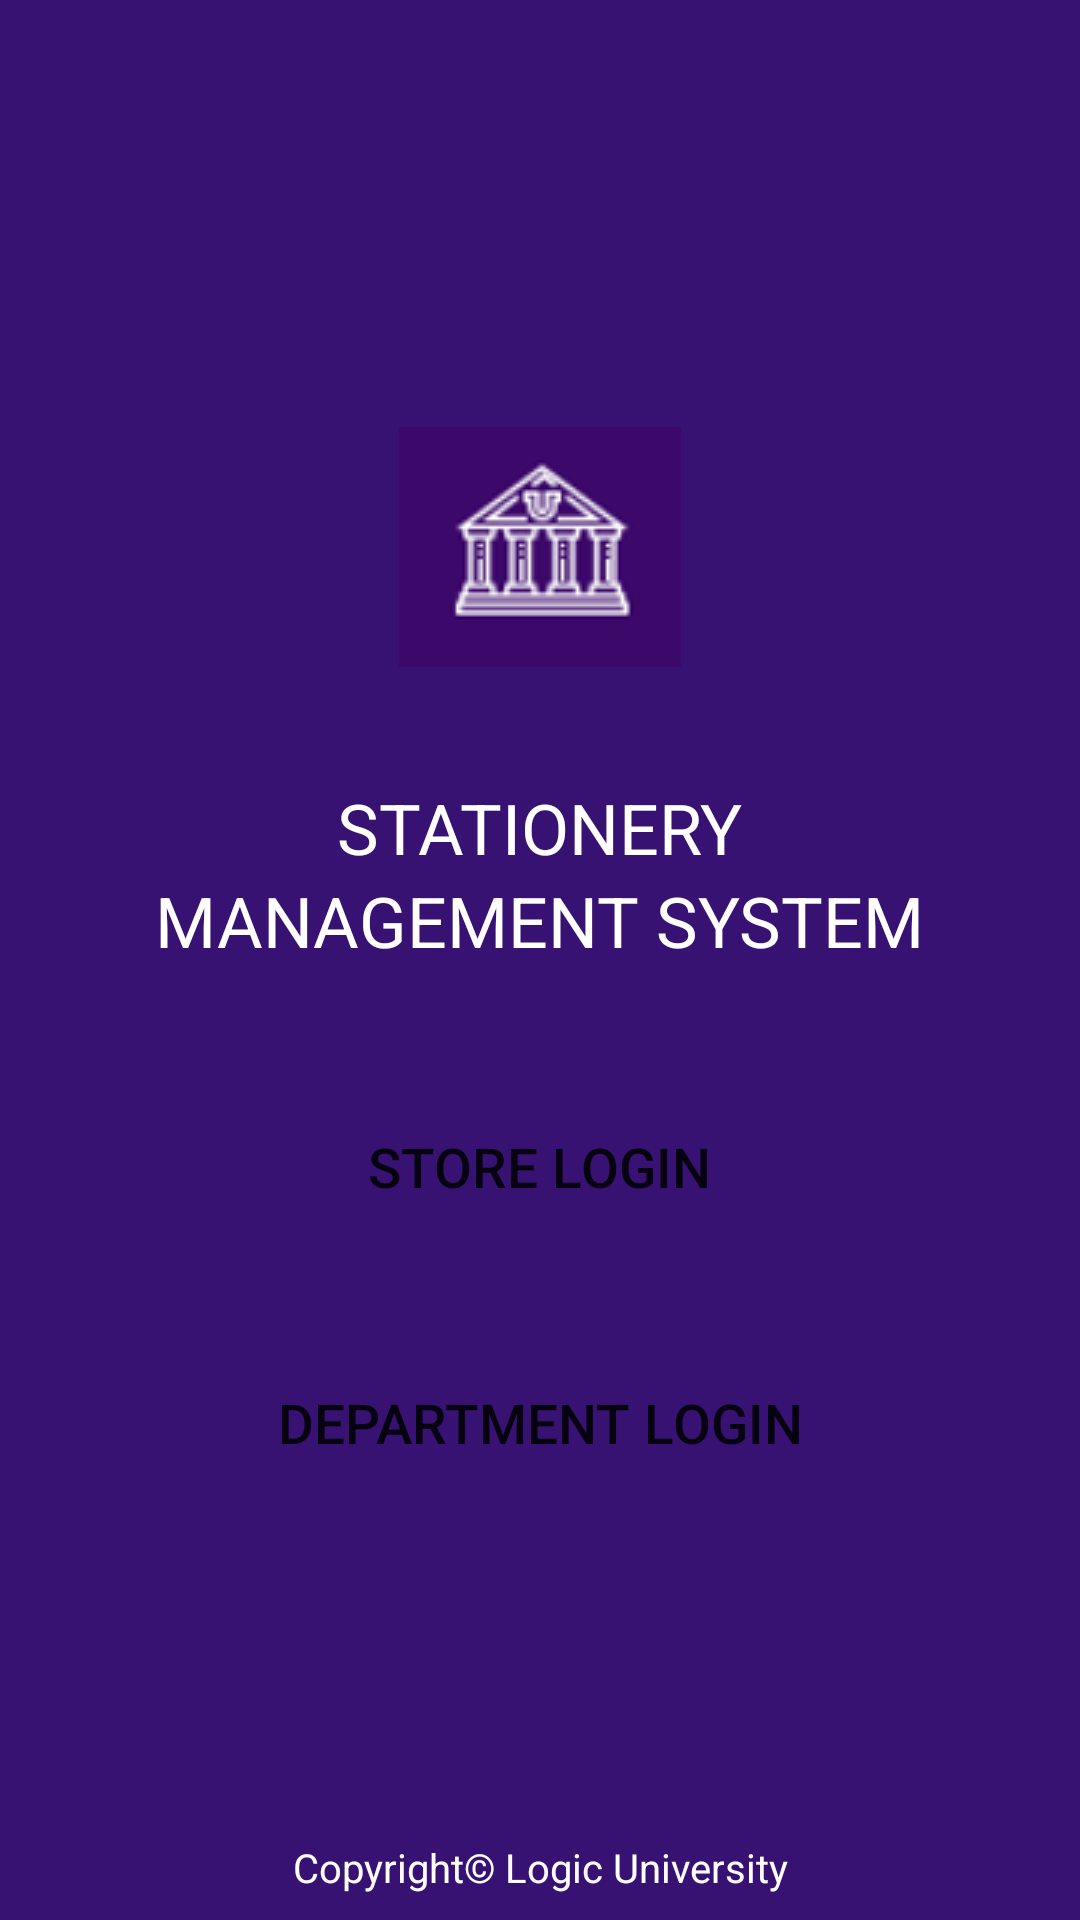

Icons on this 1080px×1920px Android screen, each with the point to tap as point (x, y):
school: point (543, 540)
